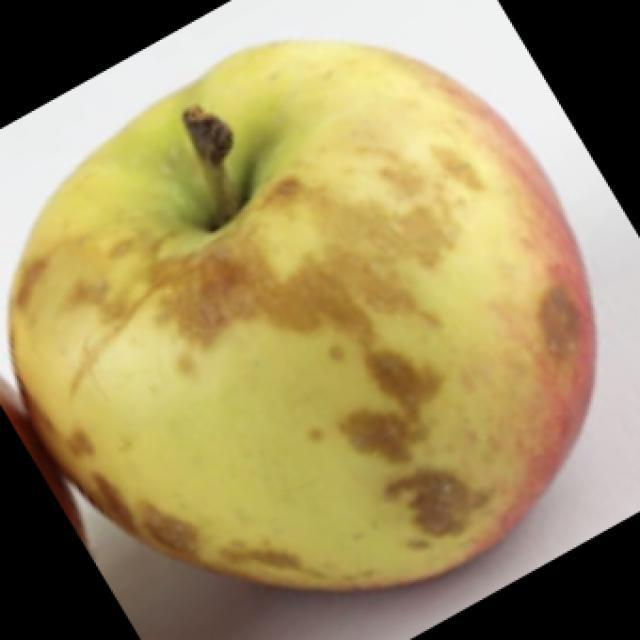Rotten: (20, 50, 577, 582)
